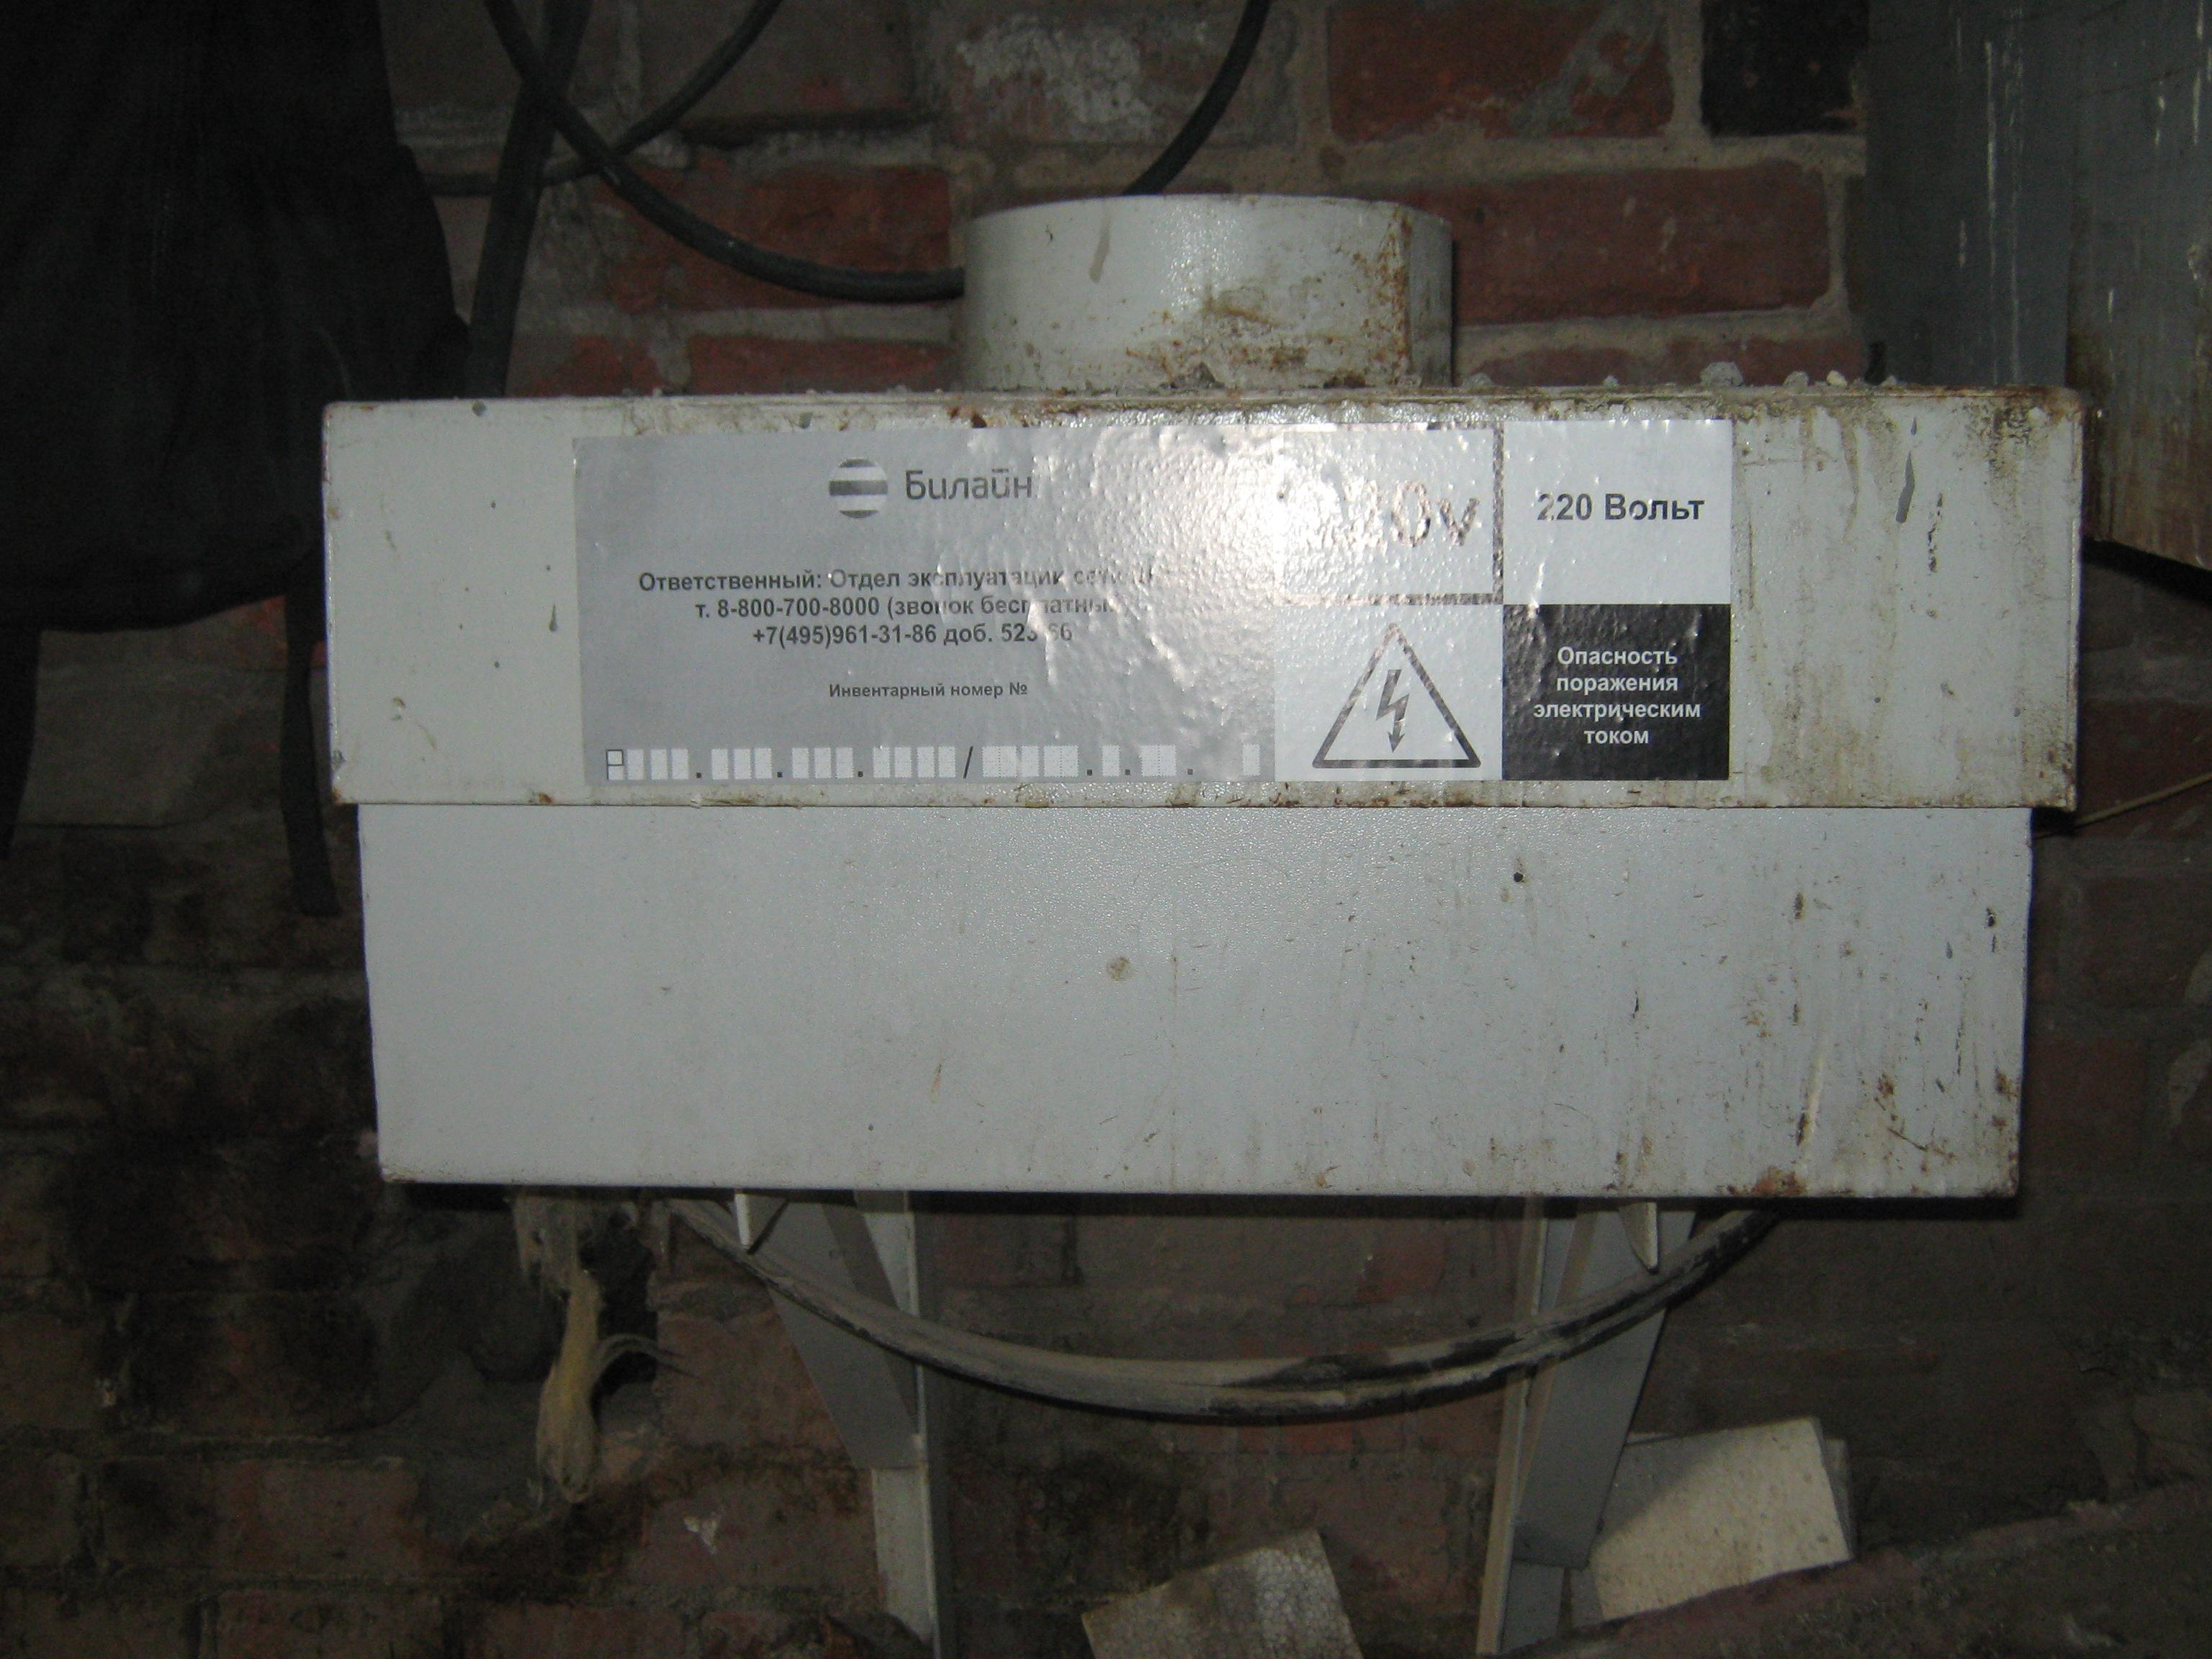shta-ps: (284, 145, 2120, 1258)
